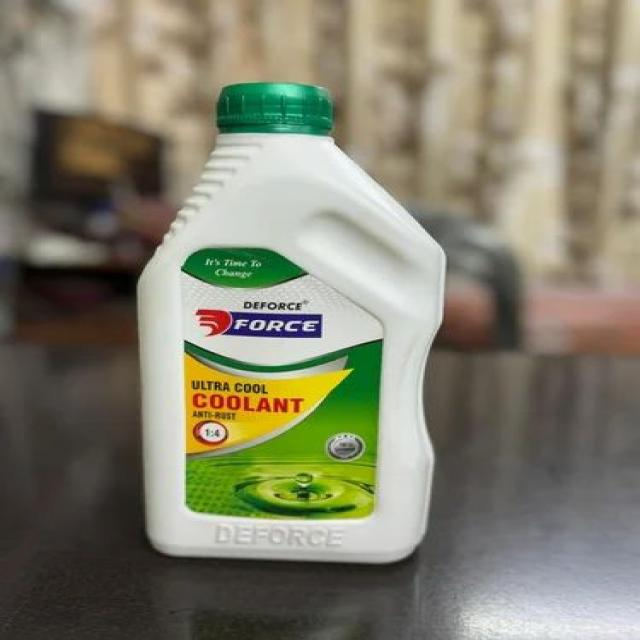coolant: (130, 78, 445, 571)
